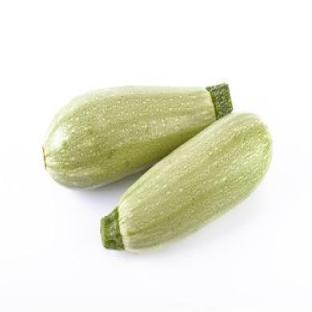Zucchini: (101, 114, 271, 250), (44, 84, 231, 187)
